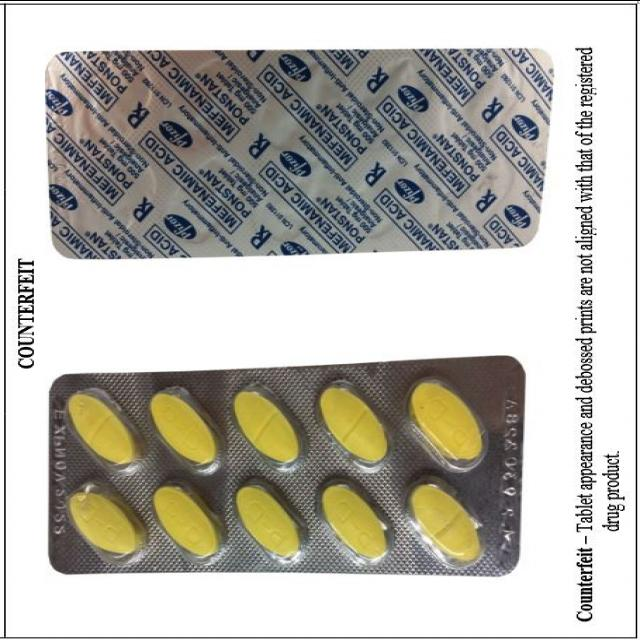counterfeit: (42, 39, 556, 262), (37, 350, 533, 581)
